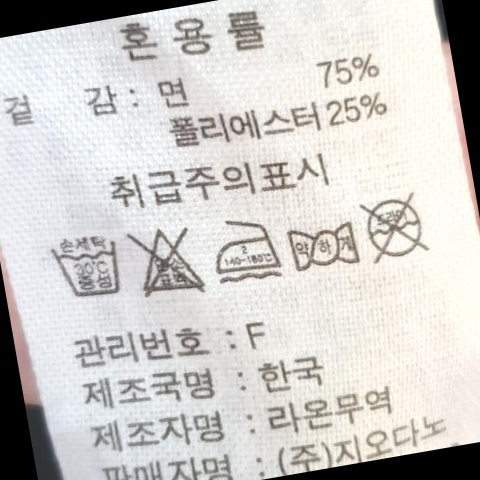DN_dry_clean: (356, 185, 436, 268)
hand_wash: (46, 231, 130, 308)
iron_medium: (208, 211, 283, 284)
non_chlorine_bleach: (126, 215, 215, 307)
wring: (283, 212, 364, 280)
